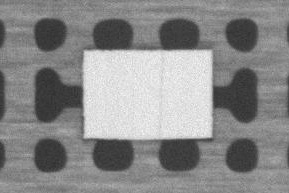DIE_CRACK: (157, 51, 165, 138)
